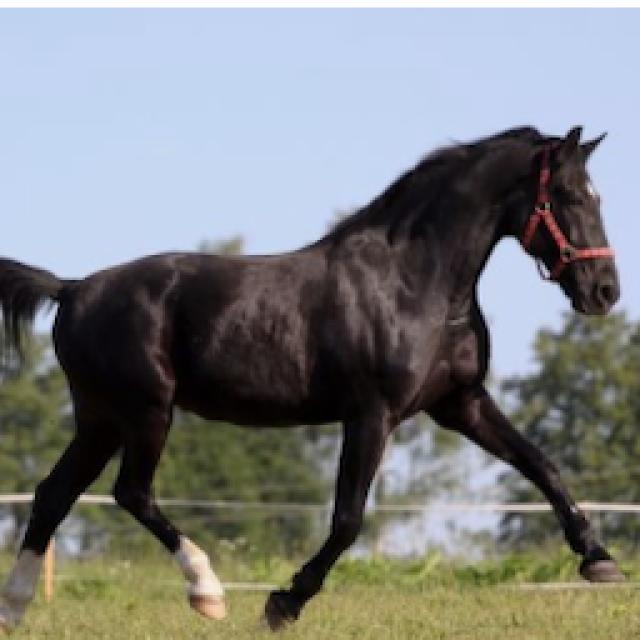Horse: (0, 117, 638, 635)
